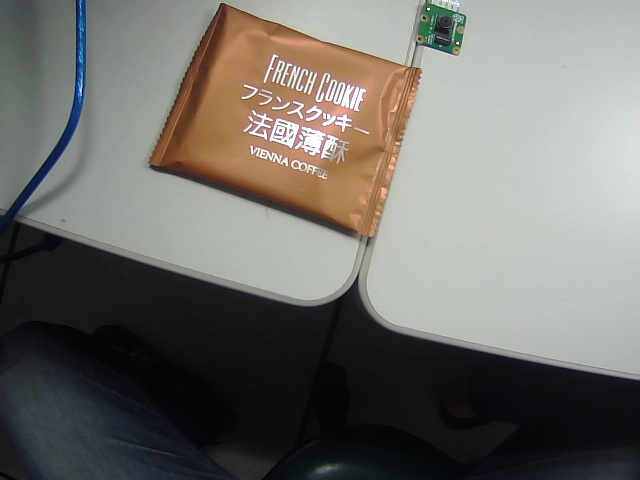frenchcookie: (132, 1, 429, 249)
